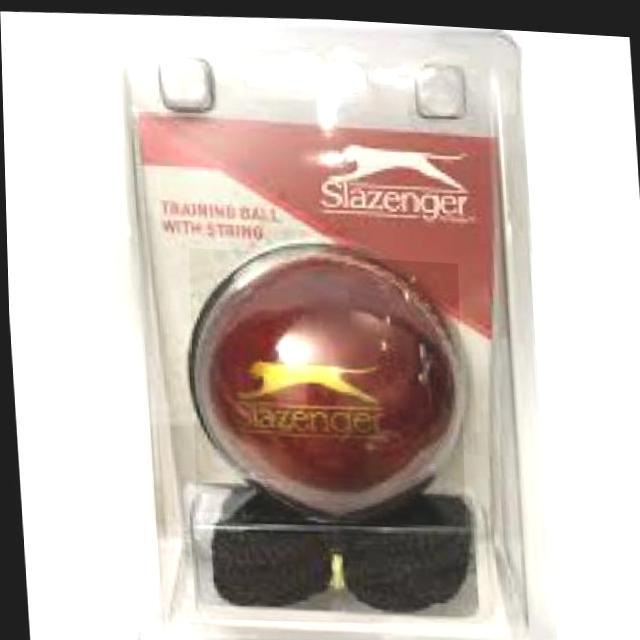-: (188, 245, 462, 522)
